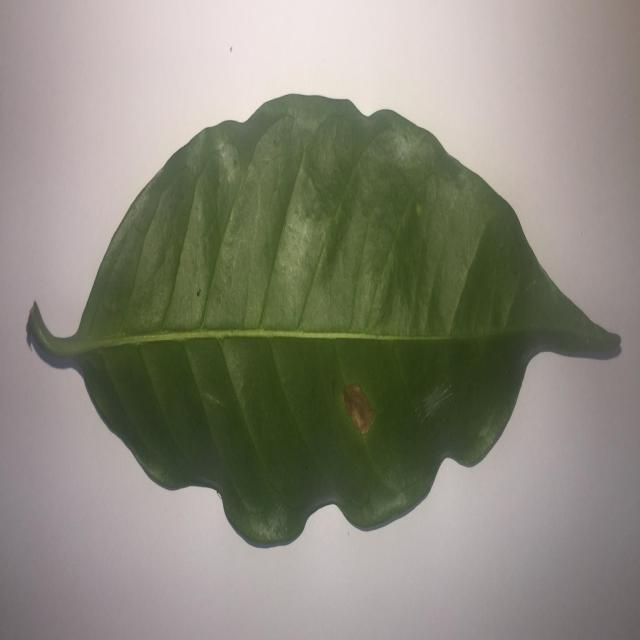miner: (342, 383, 377, 437)
